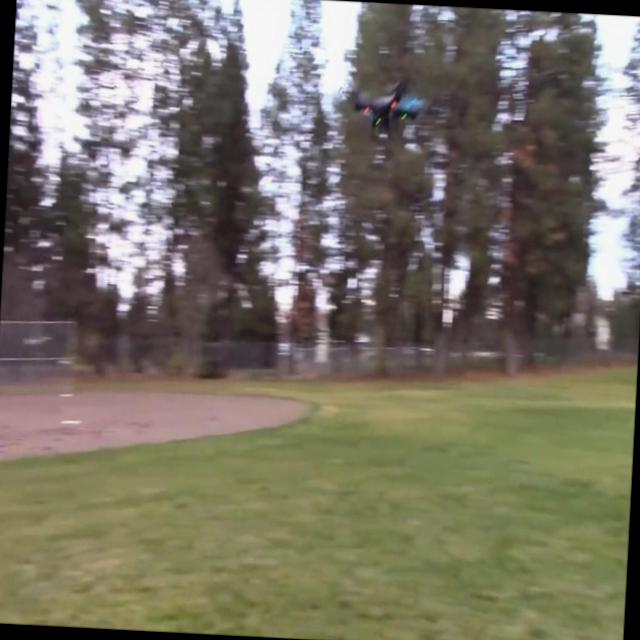drone: (352, 78, 424, 142)
